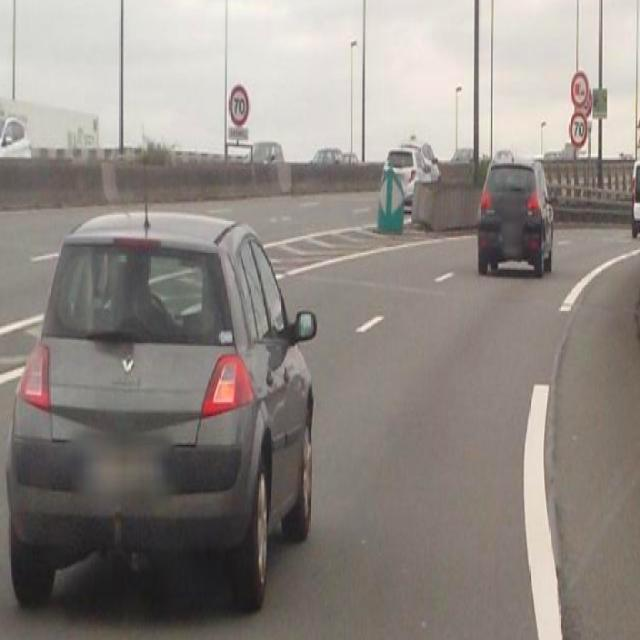speed_70: (229, 84, 248, 126), (569, 112, 587, 146)
